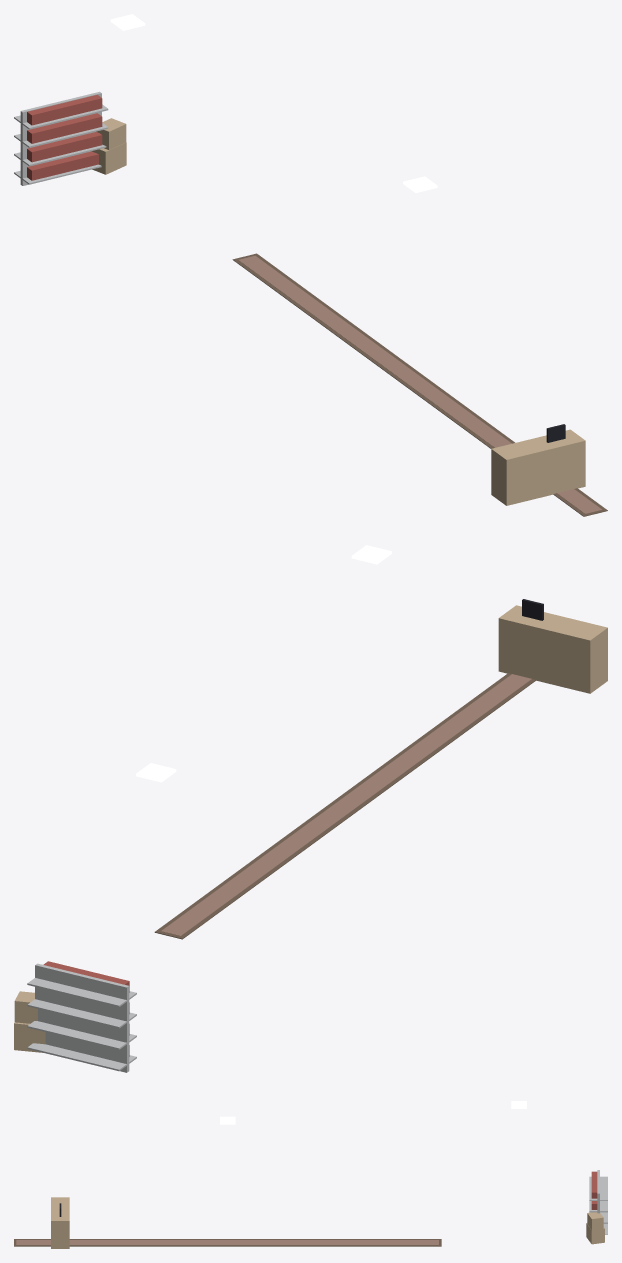
File: fine-s0.glb
3 views of the same model, one above another, from view 1: azimuth 30°, elevation 25°; view 2: azimuth 150°, elevation 25°; view 3: azimuth 270°, elevation 25° (orthographic). The views are drawn at different scales.
Parts seen in each view (by area): view 1: soft-s0, shelving.000, shop-counter.000, cardboard-box.000; view 2: soft-s0, shelving.000, shop-counter.000, cardboard-box.000; view 3: soft-s0, shop-counter.000, shelving.000, cardboard-box.000.
Part boxes in pixels (left/top/right/bottom): soft-s0: left=232, top=253, right=607, bottom=516; shelving.000: left=14, top=91, right=108, bottom=185; shop-counter.000: left=491, top=424, right=585, bottom=505; cardboard-box.000: left=92, top=118, right=126, bottom=174; soft-s0: left=154, top=673, right=536, bottom=939; shelving.000: left=27, top=961, right=136, bottom=1072; shop-counter.000: left=498, top=599, right=607, bottom=693; cardboard-box.000: left=14, top=991, right=45, bottom=1052; soft-s0: left=14, top=1239, right=441, bottom=1246; shop-counter.000: left=51, top=1197, right=69, bottom=1248; shelving.000: left=589, top=1170, right=607, bottom=1234; cardboard-box.000: left=586, top=1212, right=604, bottom=1244.
Size of the model in its own units: 2.6 by 4.38 by 19.2.
